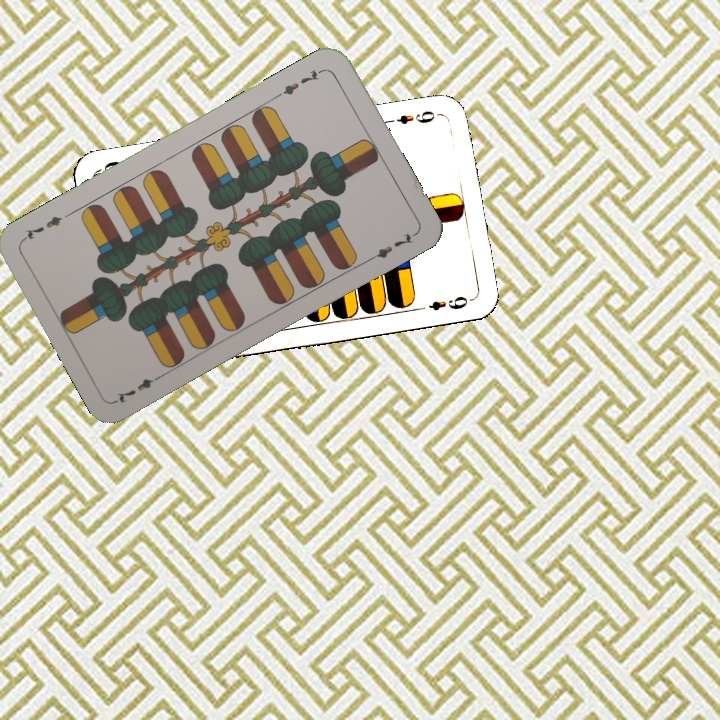E7: (112, 370, 166, 406), (272, 65, 326, 100)
E9: (384, 106, 443, 127)
